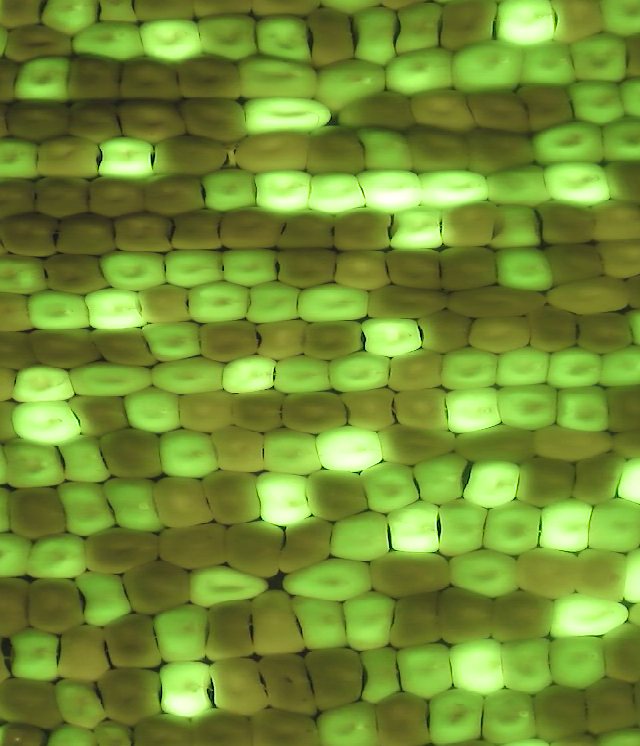fluorescent: (277, 553, 380, 605), (309, 55, 393, 116), (446, 35, 531, 95), (98, 473, 173, 538), (183, 560, 273, 614), (232, 52, 323, 105), (379, 40, 458, 100), (536, 158, 622, 212), (544, 590, 633, 642), (309, 420, 390, 477), (239, 92, 335, 140), (348, 120, 424, 180), (442, 545, 522, 602), (147, 598, 215, 665), (338, 586, 402, 657), (250, 9, 322, 72), (284, 592, 356, 655), (390, 639, 458, 705), (355, 455, 425, 519), (478, 495, 546, 560), (324, 505, 397, 565), (529, 116, 613, 168), (154, 655, 220, 721), (443, 635, 510, 700), (67, 16, 149, 69), (53, 477, 120, 541), (562, 30, 637, 87), (543, 631, 613, 692), (193, 10, 264, 69), (379, 496, 444, 560), (250, 469, 318, 530), (65, 356, 159, 400), (145, 352, 233, 399), (346, 1, 404, 72), (256, 424, 329, 480), (5, 398, 90, 446), (153, 425, 223, 482), (548, 381, 618, 438), (181, 277, 256, 330), (70, 570, 135, 631), (533, 494, 598, 555), (425, 685, 490, 746), (133, 315, 212, 365), (0, 435, 68, 493), (136, 15, 207, 70), (433, 496, 494, 560), (488, 1, 566, 51), (477, 685, 542, 745), (300, 166, 372, 220), (350, 166, 429, 215), (91, 130, 162, 184), (48, 675, 114, 733), (511, 39, 583, 92), (491, 379, 563, 432), (496, 633, 557, 695), (488, 241, 558, 295), (458, 456, 528, 510), (6, 359, 83, 408), (21, 529, 92, 582), (118, 381, 185, 437), (311, 696, 386, 746), (433, 342, 505, 394), (53, 430, 117, 488), (25, 285, 96, 337), (413, 165, 495, 210), (292, 280, 374, 325), (5, 625, 66, 685), (11, 50, 73, 109), (355, 313, 431, 361), (193, 164, 263, 216), (480, 160, 557, 207), (158, 244, 230, 294), (79, 283, 151, 333), (412, 450, 472, 510), (249, 164, 319, 215), (93, 247, 174, 291), (583, 493, 640, 555), (565, 74, 630, 128), (324, 347, 395, 396), (391, 1, 448, 61), (268, 351, 340, 398), (240, 277, 306, 328), (383, 205, 450, 255), (352, 643, 405, 706), (441, 385, 506, 436), (217, 241, 283, 291), (538, 345, 606, 393), (492, 343, 556, 393), (217, 351, 281, 398), (487, 203, 548, 252), (35, 1, 105, 40), (0, 251, 53, 298), (594, 111, 640, 165), (595, 340, 640, 391), (0, 132, 44, 184), (0, 527, 36, 583), (598, 1, 640, 40), (89, 1, 146, 24)
nonfluorescent: (117, 558, 198, 622), (253, 650, 323, 720), (247, 585, 313, 659), (89, 665, 169, 726), (366, 549, 458, 602), (301, 643, 369, 714), (79, 523, 165, 578), (203, 653, 274, 718), (220, 516, 292, 580), (96, 423, 170, 485), (98, 610, 169, 673), (0, 484, 73, 544), (482, 589, 560, 645), (459, 83, 538, 138), (199, 595, 261, 665), (27, 129, 108, 182), (22, 573, 88, 638), (567, 544, 635, 607), (508, 545, 583, 602), (461, 125, 543, 177), (443, 282, 549, 322), (273, 512, 338, 577), (198, 467, 267, 528), (299, 467, 374, 523), (156, 518, 235, 571), (147, 130, 232, 179), (539, 275, 638, 317), (53, 619, 115, 686), (149, 473, 218, 533), (24, 321, 105, 372), (304, 1, 361, 73), (375, 421, 468, 465), (278, 386, 355, 439), (0, 676, 69, 735), (178, 93, 253, 147), (230, 128, 316, 175), (213, 202, 290, 254), (450, 423, 541, 467), (578, 673, 640, 737), (529, 682, 594, 743), (371, 688, 439, 746), (333, 89, 420, 134), (436, 584, 499, 646), (384, 590, 448, 651), (513, 79, 579, 138), (405, 85, 481, 136), (361, 281, 455, 322), (431, 241, 503, 294), (114, 97, 193, 145), (172, 51, 244, 103), (403, 123, 475, 175), (111, 56, 186, 105), (49, 210, 122, 260), (303, 124, 370, 178), (564, 450, 627, 507), (516, 455, 581, 510), (37, 251, 113, 298), (387, 385, 457, 436), (538, 239, 608, 290), (434, 1, 500, 55), (138, 170, 210, 219), (0, 208, 63, 264), (0, 21, 80, 65), (532, 198, 601, 249), (105, 207, 178, 255), (205, 423, 271, 476), (85, 324, 161, 370), (0, 96, 74, 143), (83, 171, 153, 220), (63, 390, 133, 439), (269, 245, 345, 290), (328, 204, 396, 254), (171, 388, 243, 435), (412, 306, 479, 356), (573, 309, 640, 359), (296, 318, 370, 363), (528, 423, 618, 460), (437, 199, 502, 250), (195, 318, 265, 365), (385, 346, 452, 395), (62, 53, 123, 106), (226, 385, 293, 433), (380, 246, 448, 293), (464, 313, 538, 356), (245, 706, 324, 746), (250, 315, 313, 365), (167, 206, 231, 255), (136, 280, 200, 329), (187, 705, 263, 746), (338, 385, 400, 435), (27, 174, 94, 220), (546, 1, 610, 49), (274, 206, 340, 252), (524, 305, 581, 356), (330, 247, 393, 293), (68, 99, 127, 148), (128, 708, 199, 746), (598, 621, 640, 684), (0, 574, 37, 642), (588, 197, 640, 245), (593, 233, 640, 282), (597, 157, 640, 208), (0, 174, 41, 227), (600, 383, 640, 437), (0, 327, 45, 373), (0, 286, 39, 335), (132, 1, 202, 25), (0, 716, 53, 746), (0, 1, 45, 33), (604, 424, 640, 463)
